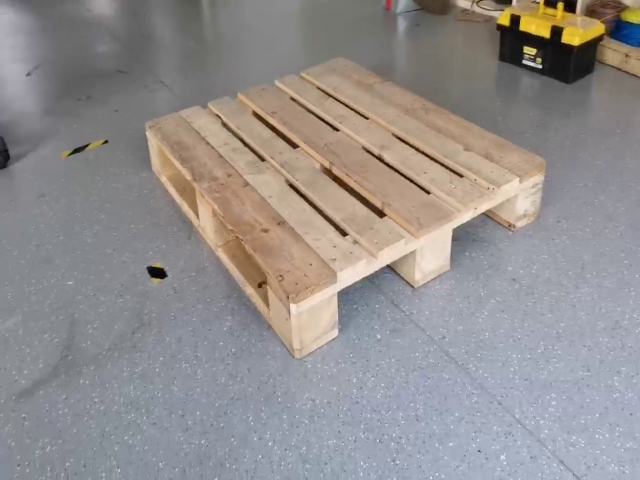block: (264, 269, 338, 360), (413, 221, 454, 290), (515, 161, 545, 228), (193, 184, 218, 252), (145, 125, 162, 182)
front: (293, 161, 547, 358)
hole pallet: (337, 252, 414, 334), (452, 193, 515, 270)
